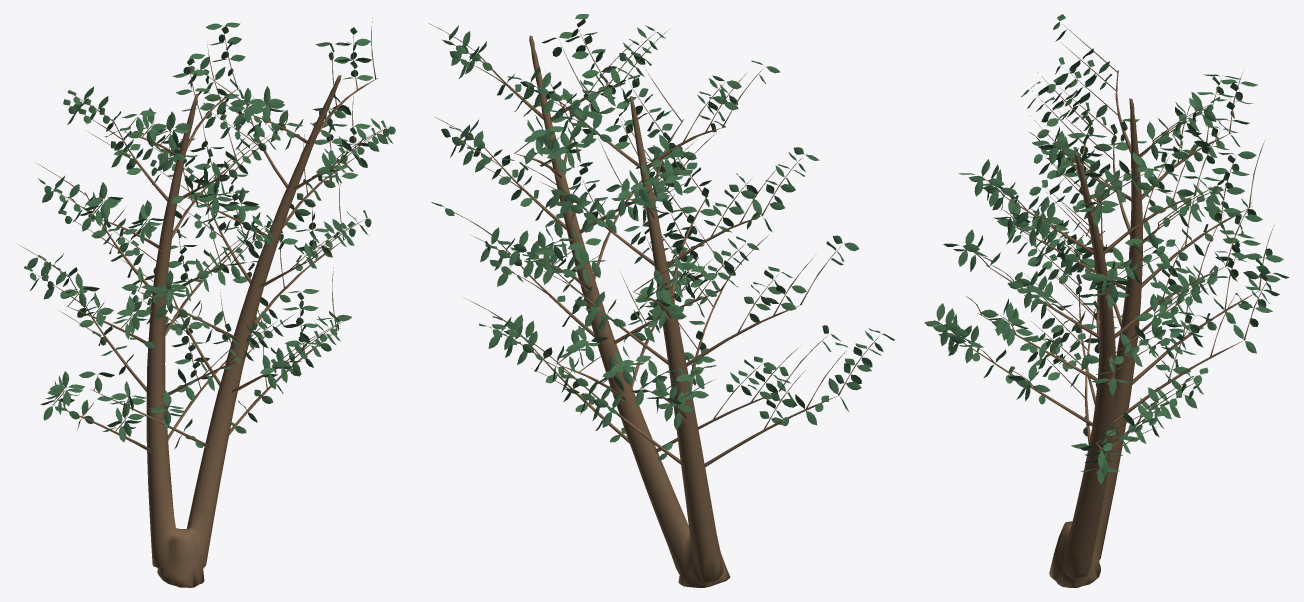
Rendered from Myrte_2_Niveau1.fbx.
The picture shows the model from 3 angles, left to right: view 1: azimuth 30°, elevation 25°; view 2: azimuth 150°, elevation 25°; view 3: azimuth 270°, elevation 25°; orthographic projection. The views are drawn at different scales.
Visible parts, largest first — view 1: Myrte_2_Niveau1_Jeu; view 2: Myrte_2_Niveau1_Jeu; view 3: Myrte_2_Niveau1_Jeu.
Part boxes in pixels (box(x1,y1,x2,y2)): Myrte_2_Niveau1_Jeu: box(20, 17, 395, 587); Myrte_2_Niveau1_Jeu: box(429, 14, 894, 587); Myrte_2_Niveau1_Jeu: box(924, 14, 1289, 587).
Bounding box in the file's own units: 123 × 153 × 93.84.
